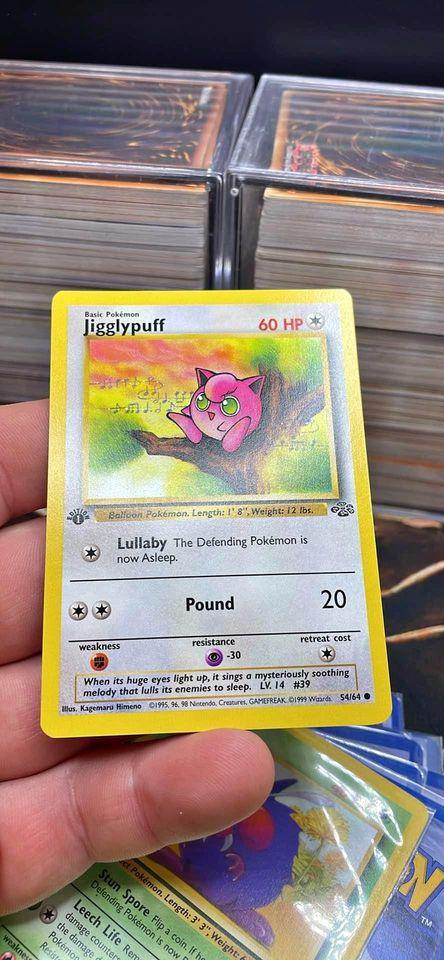card: (39, 286, 396, 740)
